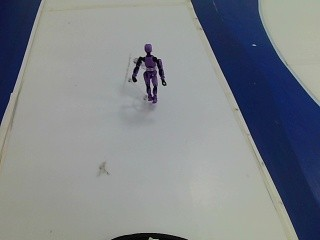pedestrian: (112, 35, 179, 108)
